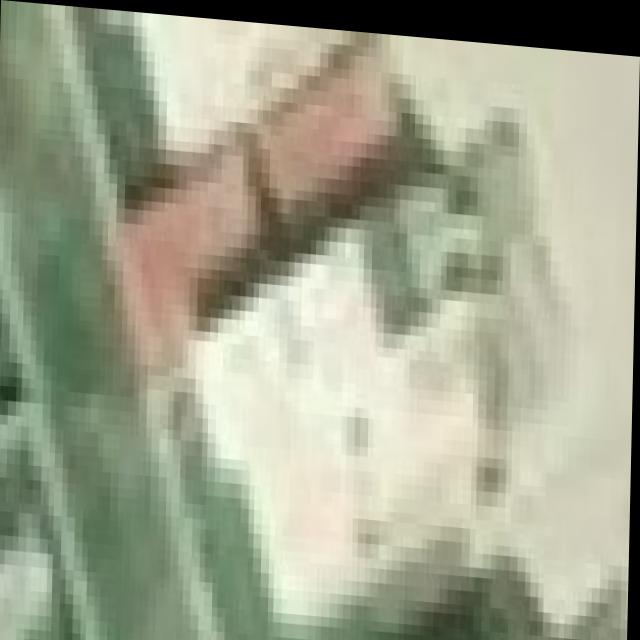Batiment: (118, 127, 275, 363), (264, 47, 395, 267)
